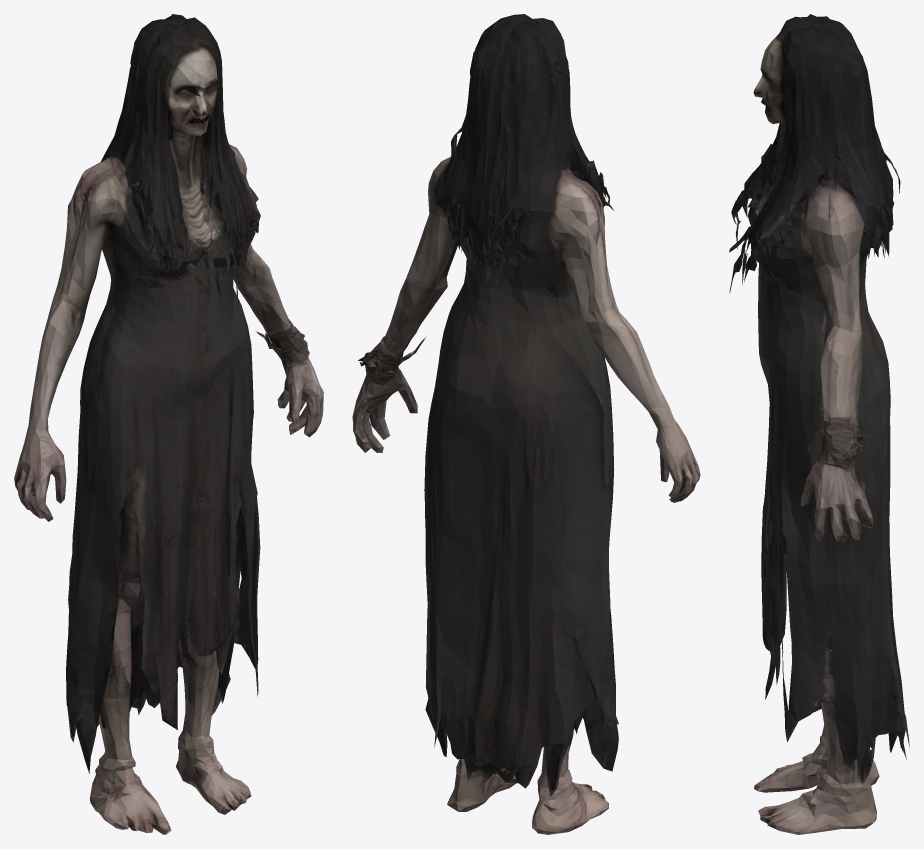
Rendered from Horror_character_from_0425014528_texture.fbx.
The picture shows the model from 3 angles, left to right: view 1: azimuth 30°, elevation 25°; view 2: azimuth 150°, elevation 25°; view 3: azimuth 270°, elevation 25°; orthographic projection.
Parts seen in each view (by area): view 1: temp; view 2: temp; view 3: temp.
Part boxes in pixels (x1,y1,x2,y2): temp: (14,14,323,834); temp: (352,14,700,834); temp: (729,14,909,834).
Bounding box in the file's own units: 84.28 × 200 × 41.58.
Materials: 1 (1 with a texture image).
